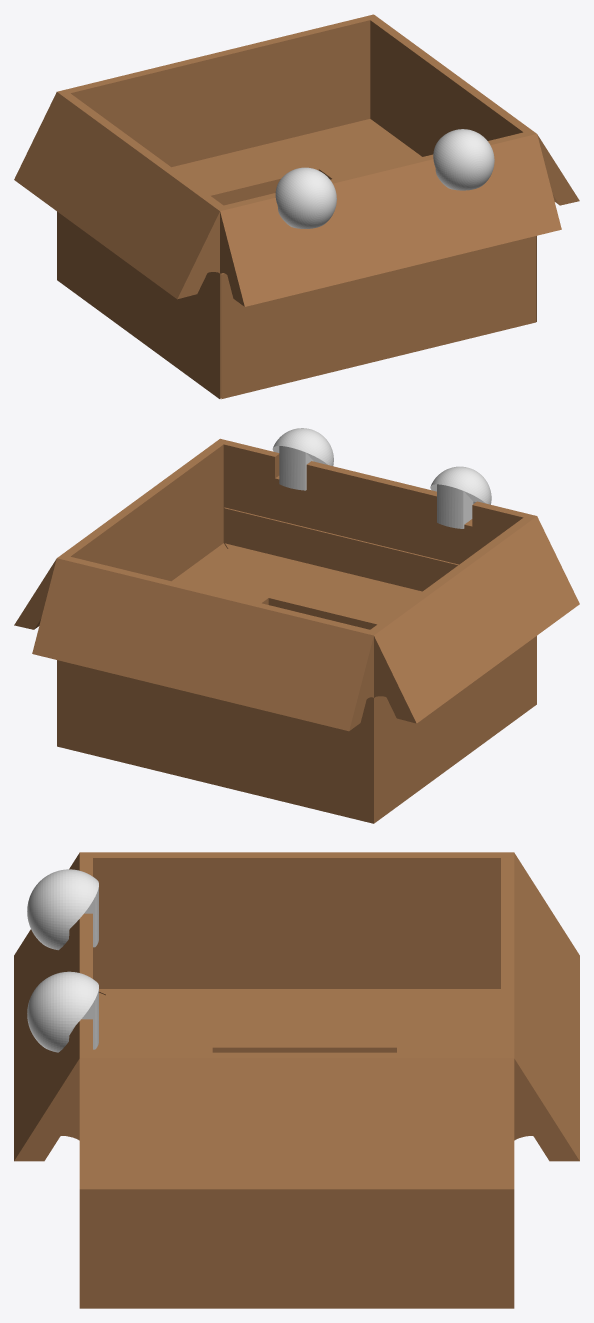
The model's file is gato1-caja.glb.
3 renders of one model, top to bottom at view 1: azimuth 30°, elevation 25°; view 2: azimuth 150°, elevation 25°; view 3: azimuth 270°, elevation 25°, orthographic. The views are drawn at different scales.
Parts seen in each view (by area): view 1: 猫; view 2: 猫; view 3: 猫.
Part boxes in pixels (x1=…): 猫: x1=14, y1=14, x2=579, y2=399; 猫: x1=14, y1=428, x2=579, y2=823; 猫: x1=14, y1=852, x2=579, y2=1308.
Size of the model in its own units: 47 by 23.66 by 43.
